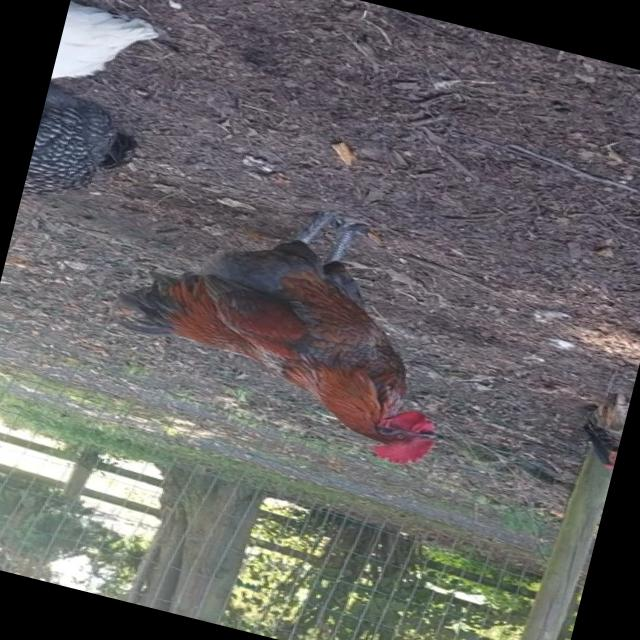walking: (91, 170, 497, 488)
